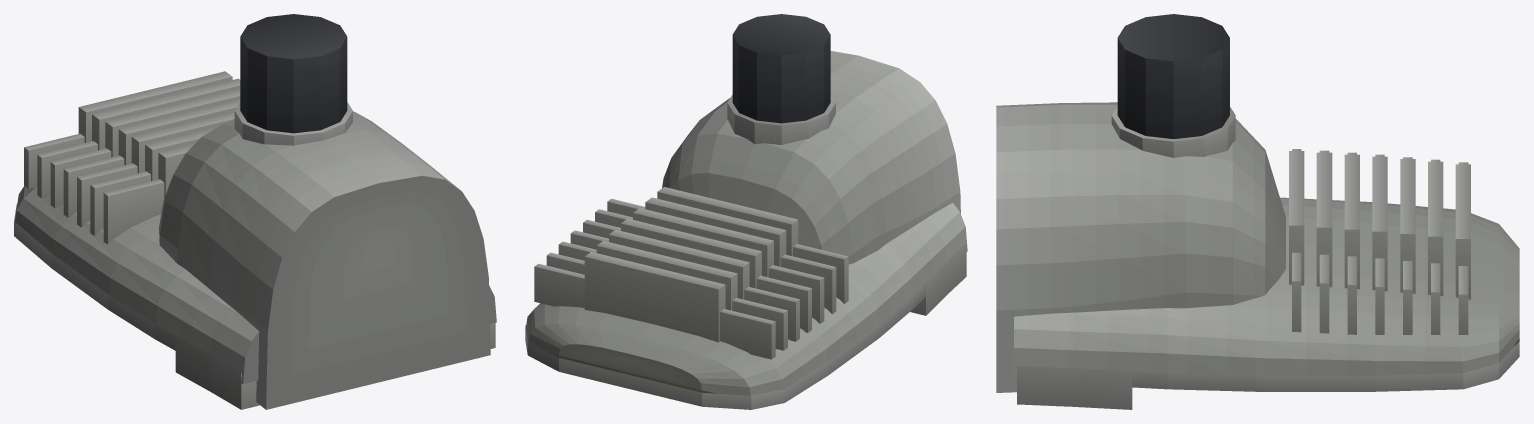
The model's file is streetlight_geel.obj.
The picture shows the model from 3 angles, left to right: view 1: azimuth 30°, elevation 25°; view 2: azimuth 150°, elevation 25°; view 3: azimuth 270°, elevation 25°; orthographic projection. The views are drawn at different scales.
Parts seen in each view (by area): view 1: fixture; view 2: fixture; view 3: fixture.
Boxes of the visible parts, x1,y1,x2,y2 form: fixture: [14, 14, 496, 409]; fixture: [525, 14, 967, 409]; fixture: [996, 14, 1519, 409].
Size of the model in its own units: 0.375 by 0.3518 by 0.5531.
